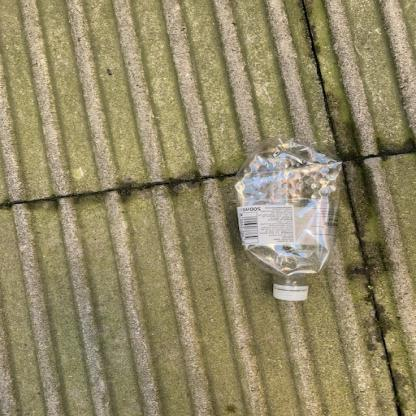trash: (229, 135, 344, 303)
